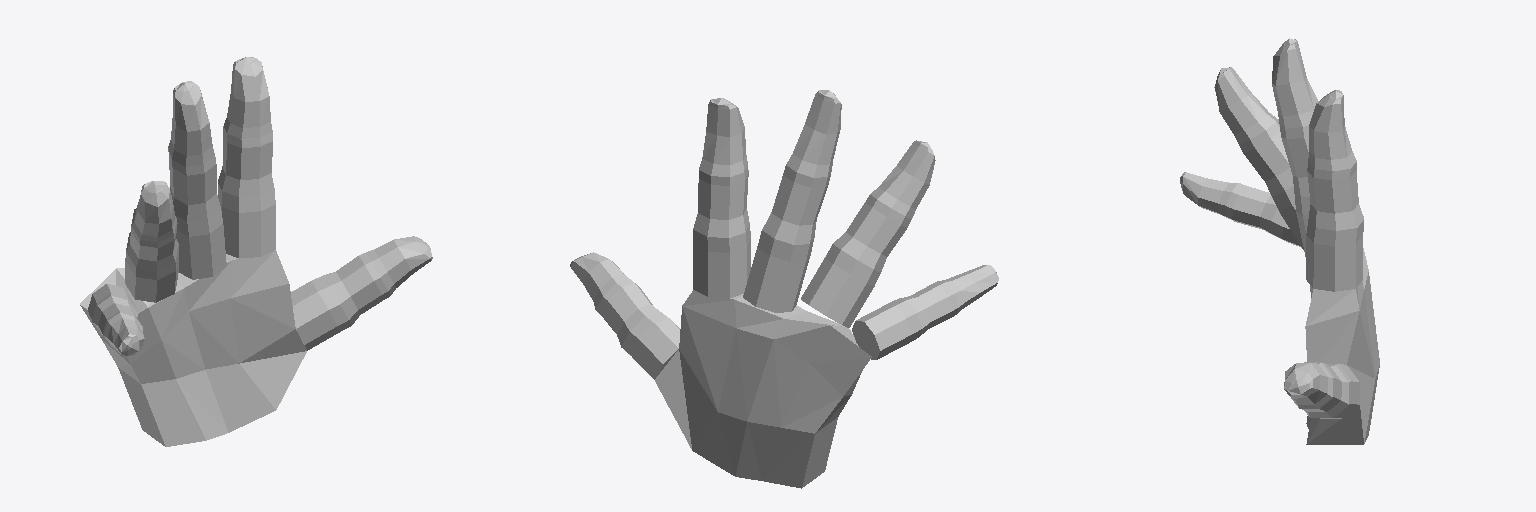
Rendered from Hand.obj.
The picture shows the model from 3 angles: view 1: azimuth 30°, elevation 25°; view 2: azimuth 150°, elevation 25°; view 3: azimuth 270°, elevation 25°; orthographic projection.
Parts seen in each view (by area): view 1: pCube7 polySurface4, pCube7 polySurface6, pCube7 polySurface5, pCube7 polySurface3, pCube7 polySurface2, polySurface1 pCube7; view 2: pCube7 polySurface4, pCube7 polySurface5, pCube7 polySurface2, pCube7 polySurface6, pCube7 polySurface3, polySurface1 pCube7; view 3: pCube7 polySurface6, pCube7 polySurface4, pCube7 polySurface2, pCube7 polySurface5, polySurface1 pCube7, pCube7 polySurface3.
Part boxes in pixels (left/top/right/bottom): pCube7 polySurface4: left=80, top=250, right=306, bottom=446; pCube7 polySurface6: left=218, top=57, right=275, bottom=258; pCube7 polySurface5: left=168, top=81, right=226, bottom=279; pCube7 polySurface3: left=291, top=236, right=432, bottom=350; pCube7 polySurface2: left=125, top=181, right=178, bottom=302; polySurface1 pCube7: left=88, top=284, right=144, bottom=355; pCube7 polySurface4: left=655, top=290, right=871, bottom=488; pCube7 polySurface5: left=743, top=90, right=841, bottom=312; pCube7 polySurface2: left=801, top=140, right=935, bottom=327; pCube7 polySurface6: left=693, top=98, right=750, bottom=298; pCube7 polySurface3: left=570, top=252, right=679, bottom=379; polySurface1 pCube7: left=852, top=265, right=998, bottom=359; pCube7 polySurface6: left=1306, top=90, right=1363, bottom=291; pCube7 polySurface4: left=1305, top=248, right=1379, bottom=444; pCube7 polySurface2: left=1214, top=67, right=1303, bottom=249; pCube7 polySurface5: left=1272, top=38, right=1318, bottom=256; polySurface1 pCube7: left=1180, top=172, right=1301, bottom=247; pCube7 polySurface3: left=1284, top=362, right=1359, bottom=418.
Bounding box in the file's own units: 10.05 × 9.68 × 4.74.